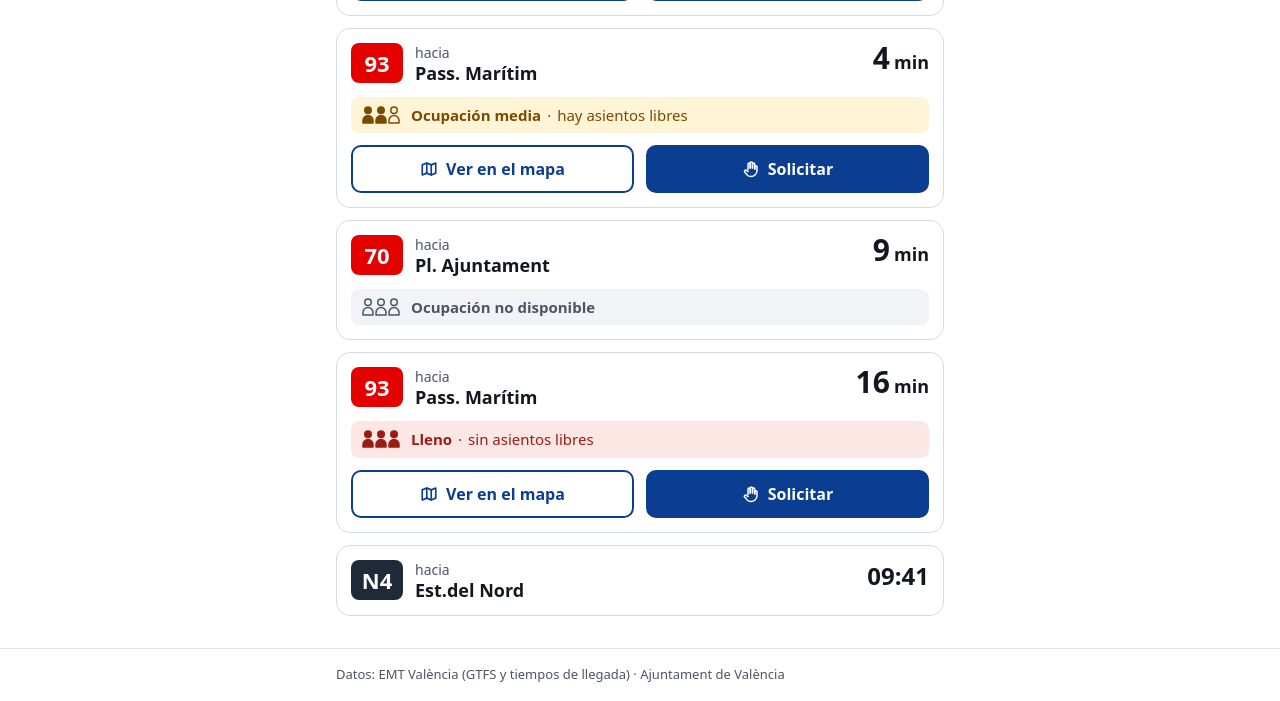
StopPage with stop requests › with the request dialog open › [passenger_alert_ui.AC-11] a request for another bus of the line moves the focus to the card of that bus
(page scrolled)
Click the button named "Solicitar parada a la línea 93 hacia Passeig Marítim - Hospital Malva-rosa": (788, 494) [646,470,929,518]
Wait 100 ms
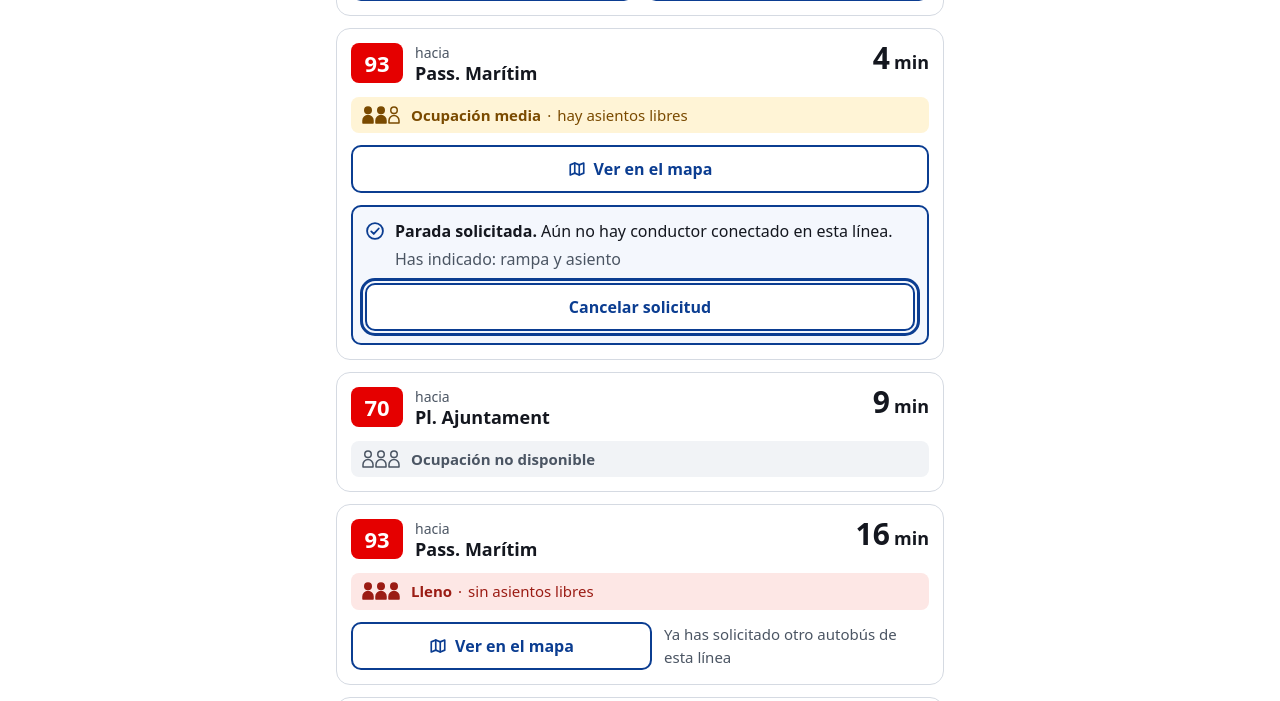
Check: the list item that starts with "Passeig Marítim - Hospital Malva-rosa" shows "Ya has solicitado otro autobús de esta línea", box [664,624,897,667]
